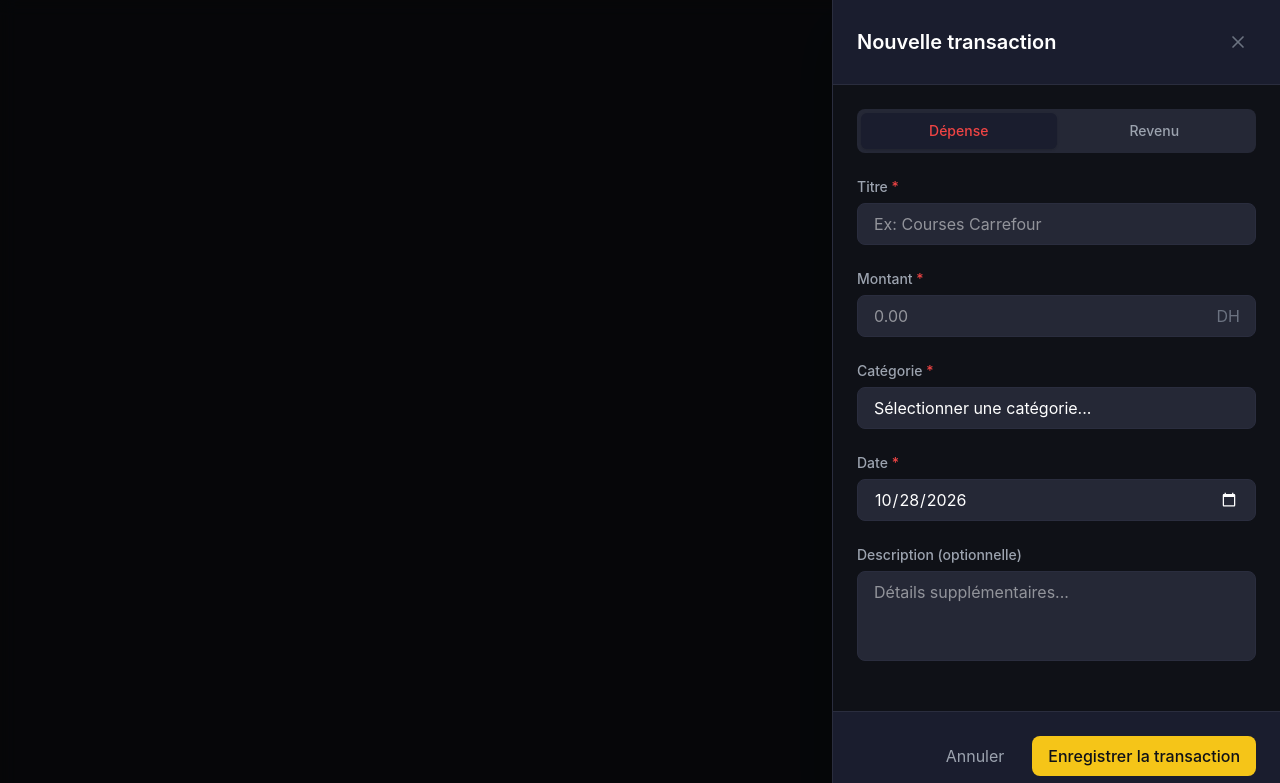
Scenario: TransactionForm › TransactionForm_amountWithInvalidFormat_shouldShowError
# Type invalid amount
Type "abc" into the field labelled "Montant *".
click(1056, 316); type("abc")  # box [857,295,1256,337]
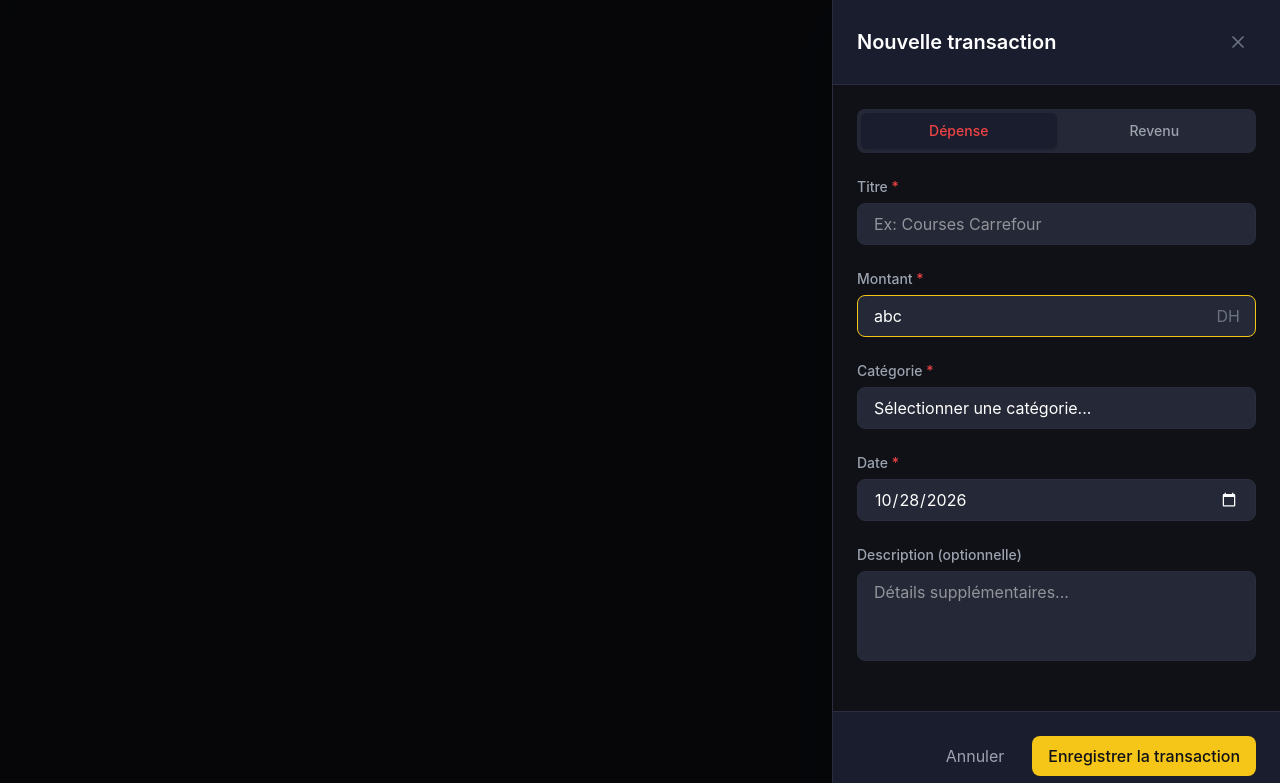
Click the button "Enregistrer la transaction".
click(1144, 756)  # box [1032,736,1256,776]
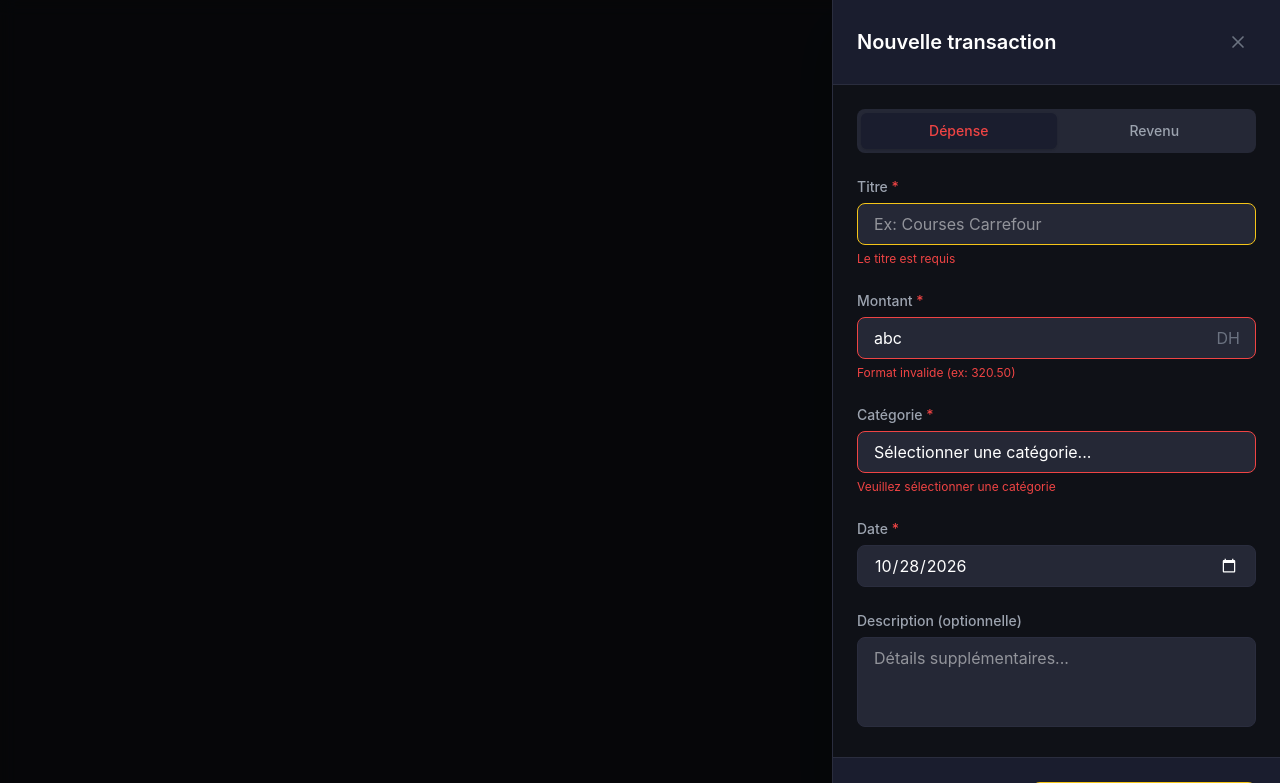
Check: the text "Format invalide (ex: 320.50)" is shown, box [857,365,1016,380]
